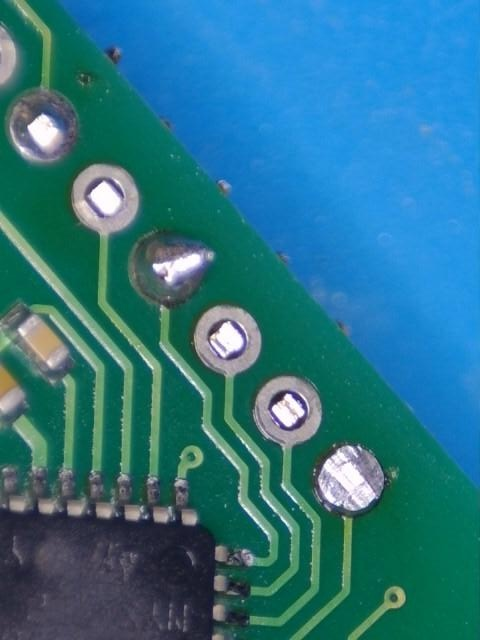pcb_defect: (134, 233, 214, 308), (11, 92, 78, 161)
